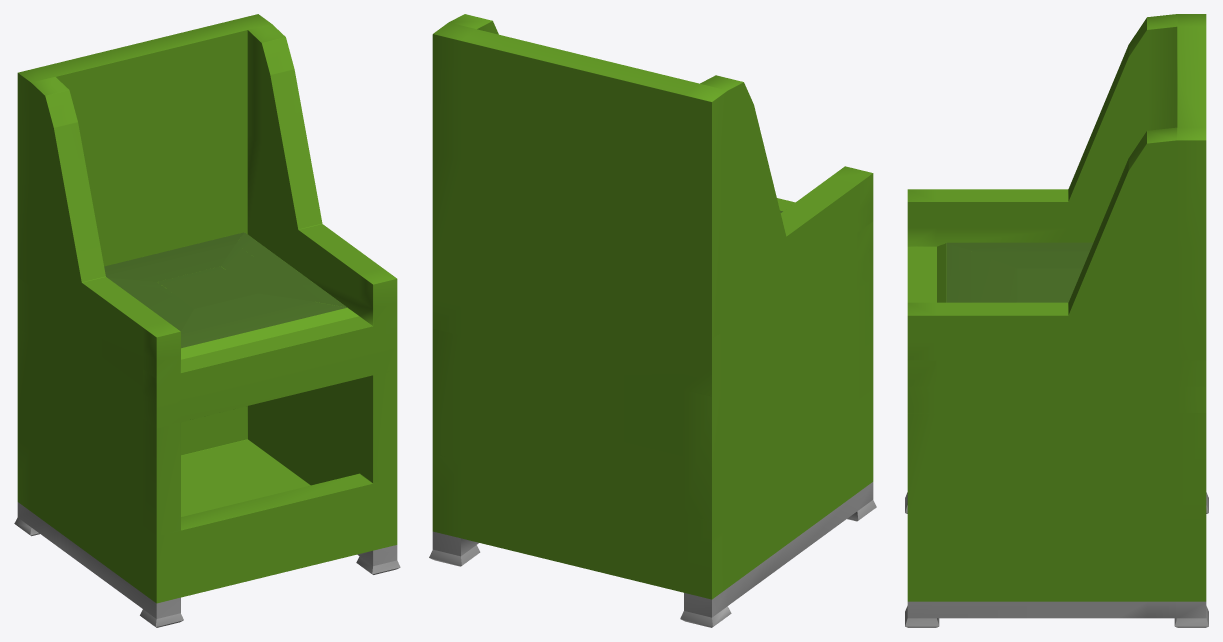
File: chair2.glb
The picture shows the model from 3 angles, left to right: view 1: azimuth 30°, elevation 25°; view 2: azimuth 150°, elevation 25°; view 3: azimuth 270°, elevation 25°; orthographic projection. The views are drawn at different scales.
Visible parts, largest first — view 1: Chair3.001; view 2: Chair3.001; view 3: Chair3.001.
Boxes of the visible parts, bbox=[...] form: Chair3.001: bbox=[14, 14, 400, 627]; Chair3.001: bbox=[429, 14, 876, 627]; Chair3.001: bbox=[905, 14, 1208, 627].
Bounding box in the file's own units: 2.04 × 3.6 × 2.03.
